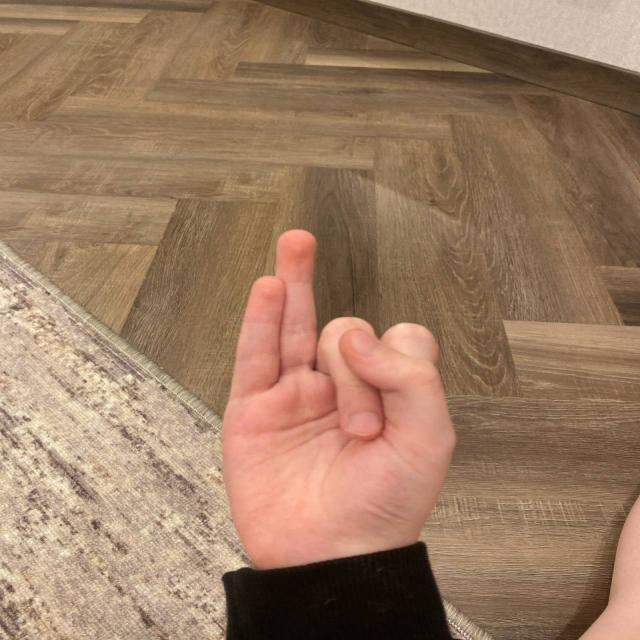i: (222, 232, 522, 513)
